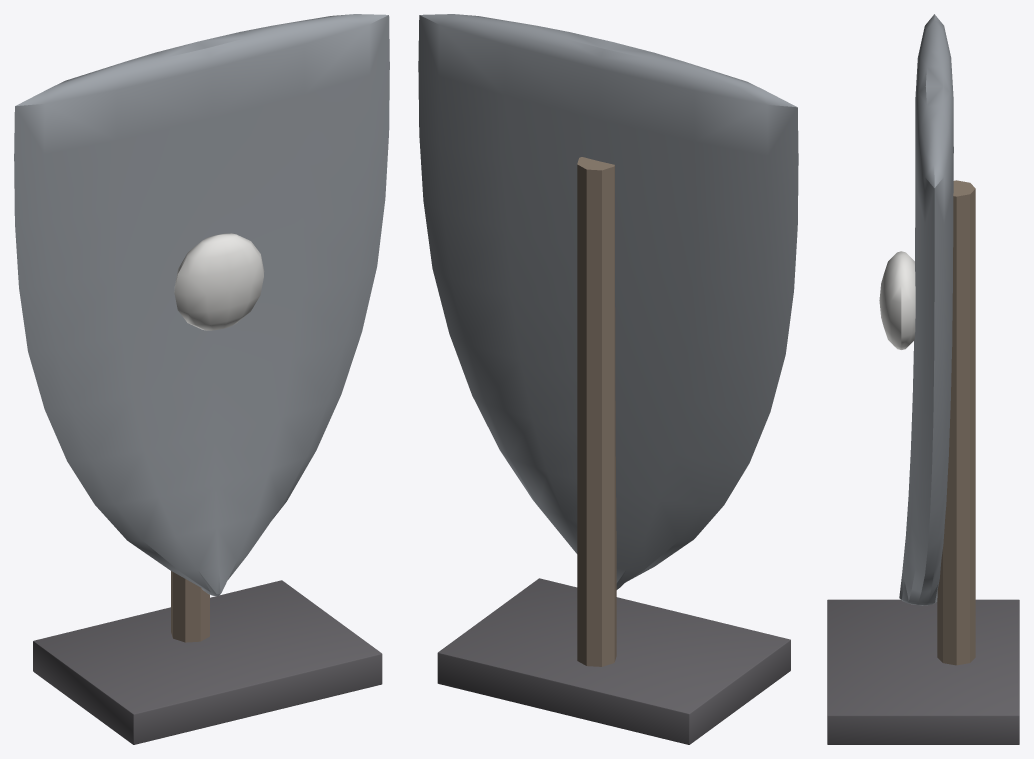
Rendered from perk_thick_skin.gltf.
3 views of the same model, side by side, from view 1: azimuth 30°, elevation 25°; view 2: azimuth 150°, elevation 25°; view 3: azimuth 270°, elevation 25° (orthographic). The views are drawn at different scales.
Parts seen in each view (by area): view 1: Body, Glow; view 2: Body; view 3: Body, Glow.
Part boxes in pixels (left/top/right/bottom): Body: left=14, top=14, right=389, bottom=744; Glow: left=174, top=233, right=264, bottom=330; Body: left=418, top=14, right=798, bottom=744; Body: left=827, top=14, right=1019, bottom=744; Glow: left=879, top=251, right=915, bottom=349.
Bounding box in the file's own units: 1.51 × 2.41 × 0.7.
